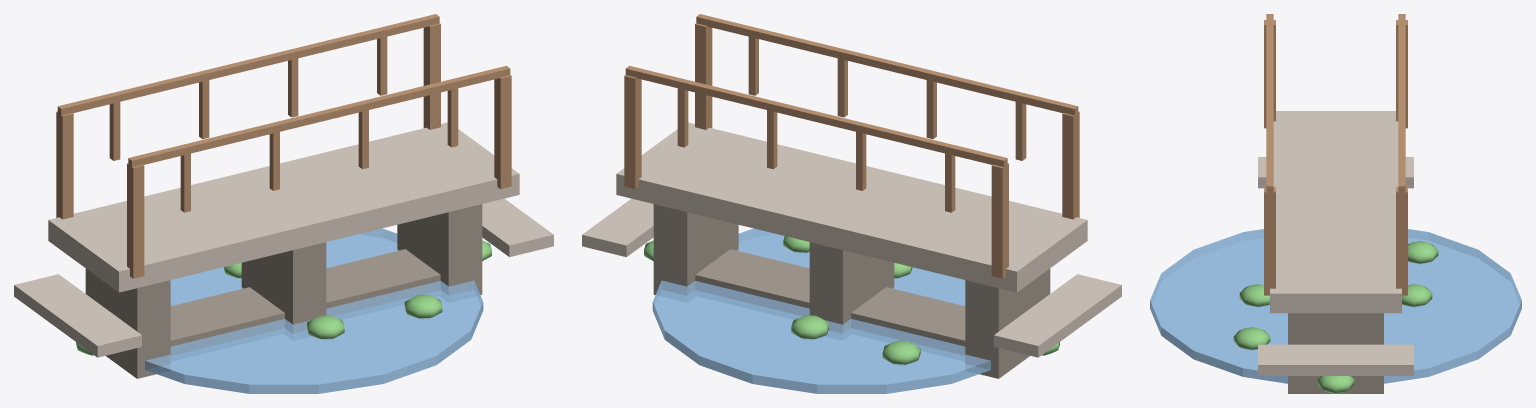
The model's file is bridge_stone.glb.
3 renders of one model, left to right at view 1: azimuth 30°, elevation 25°; view 2: azimuth 150°, elevation 25°; view 3: azimuth 270°, elevation 25°, orthographic. The views are drawn at different scales.
Visible parts, largest first — view 1: bridge_stone_root; view 2: bridge_stone_root; view 3: bridge_stone_root.
Part boxes in pixels (<box>): bridge_stone_root: <box>14,14,553,393</box>; bridge_stone_root: <box>582,14,1121,393</box>; bridge_stone_root: <box>1150,14,1521,393</box>.
Size of the model in its own units: 8 by 3.86 by 6.05.
